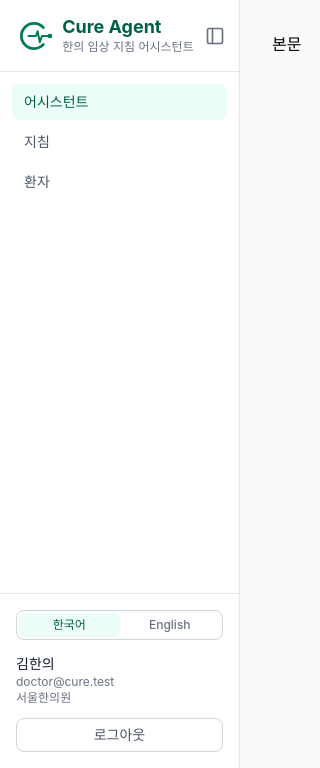
Test: AppShell 사이드바 토글 › 닫힘 상태에서도 프로필·로그아웃이 남는다 — 계정 블록이 사이드바와 함께 사라지기 때문이다
Click the button named "사이드바 닫기": (215, 36) [199,20,231,52]
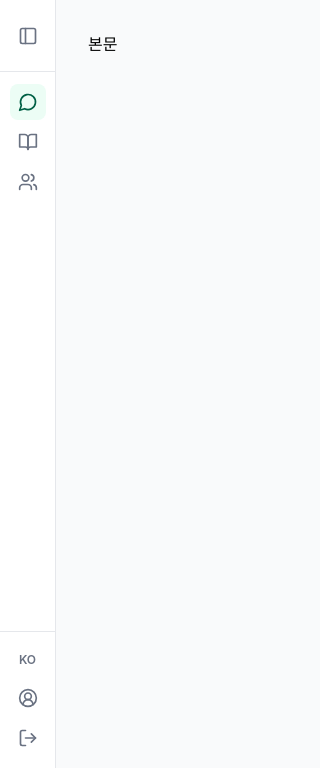
Result: the button "로그아웃" is gone
